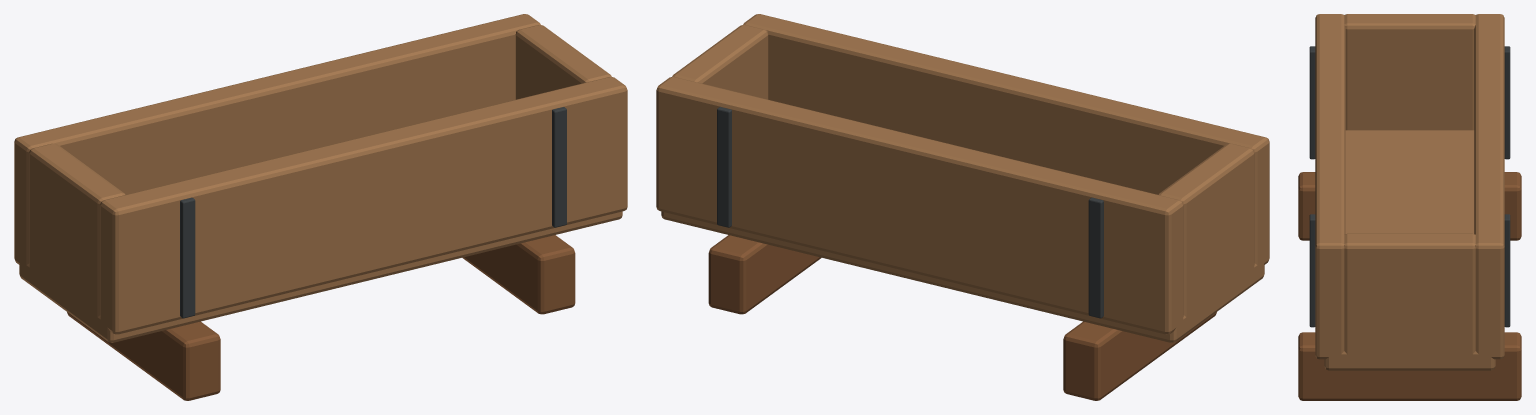
File: feed_trough.glb
3 views of the same model, side by side, from view 1: azimuth 30°, elevation 25°; view 2: azimuth 150°, elevation 25°; view 3: azimuth 270°, elevation 25° (orthographic). The views are drawn at different scales.
Parts seen in each view (by area): view 1: long_wall, long_wall.001, end_wall, foot, foot.001, bottom, end_wall.001, iron_strap, iron_strap.002; view 2: long_wall.001, long_wall, end_wall, foot, foot.001, bottom, end_wall.001, iron_strap.001, iron_strap.003; view 3: end_wall.001, bottom, end_wall, long_wall, long_wall.001, foot.001, foot, iron_strap, iron_strap.001, iron_strap.002, iron_strap.003.
Part boxes in pixels (x1=…): long_wall: x1=100, y1=77, x2=627, y2=334; long_wall.001: x1=14, y1=14, x2=540, y2=267; end_wall: x1=29, y1=143, x2=125, y2=319; foot: x1=67, y1=312, x2=220, y2=400; foot.001: x1=462, y1=235, x2=575, y2=314; bottom: x1=19, y1=211, x2=622, y2=342; end_wall.001: x1=515, y1=25, x2=611, y2=99; iron_strap: x1=180, y1=197, x2=195, y2=318; iron_strap.002: x1=552, y1=107, x2=566, y2=227; long_wall.001: x1=656, y1=77, x2=1183, y2=334; long_wall: x1=743, y1=14, x2=1269, y2=267; end_wall: x1=1158, y1=143, x2=1254, y2=319; foot: x1=1063, y1=312, x2=1216, y2=400; foot.001: x1=708, y1=235, x2=821, y2=314; bottom: x1=661, y1=211, x2=1264, y2=342; end_wall.001: x1=672, y1=25, x2=768, y2=99; iron_strap.001: x1=1088, y1=197, x2=1103, y2=318; iron_strap.003: x1=717, y1=107, x2=731, y2=227; end_wall.001: x1=1344, y1=233, x2=1475, y2=356; bottom: x1=1324, y1=130, x2=1495, y2=370; end_wall: x1=1344, y1=14, x2=1475, y2=130; long_wall: x1=1315, y1=14, x2=1345, y2=359; long_wall.001: x1=1474, y1=14, x2=1504, y2=359; foot.001: x1=1298, y1=332, x2=1521, y2=400; foot: x1=1298, y1=172, x2=1521, y2=240; iron_strap: x1=1309, y1=46, x2=1315, y2=159; iron_strap.001: x1=1504, y1=46, x2=1510, y2=159; iron_strap.002: x1=1309, y1=214, x2=1315, y2=327; iron_strap.003: x1=1504, y1=214, x2=1510, y2=327.
Bounding box in the file's own units: 1.8 × 0.67 × 0.73.
